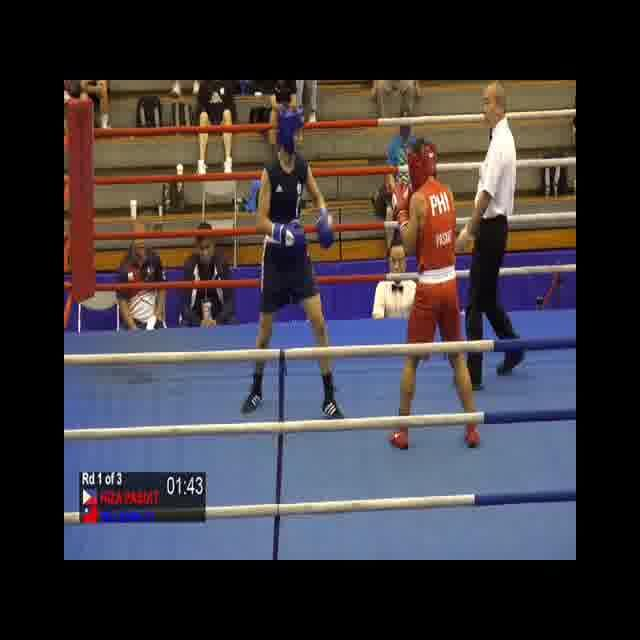blue-player: (238, 104, 348, 421)
red-player: (386, 133, 484, 454)
referee: (452, 81, 529, 391)
